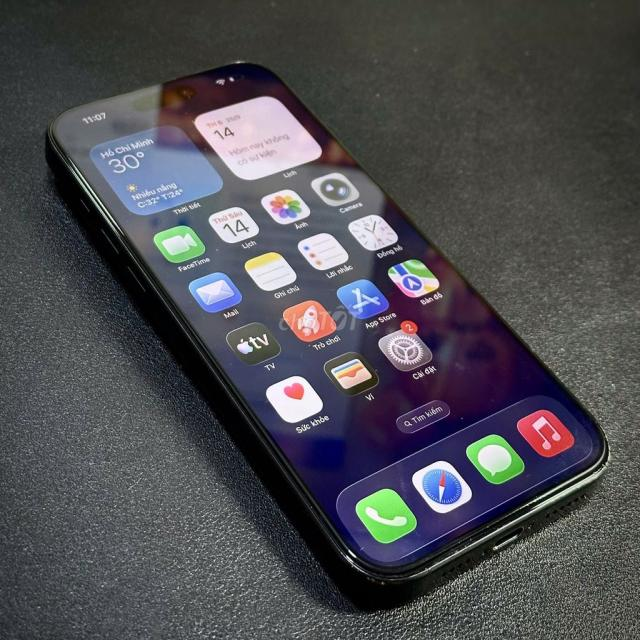scratch: (365, 573, 388, 586), (463, 536, 476, 546)
